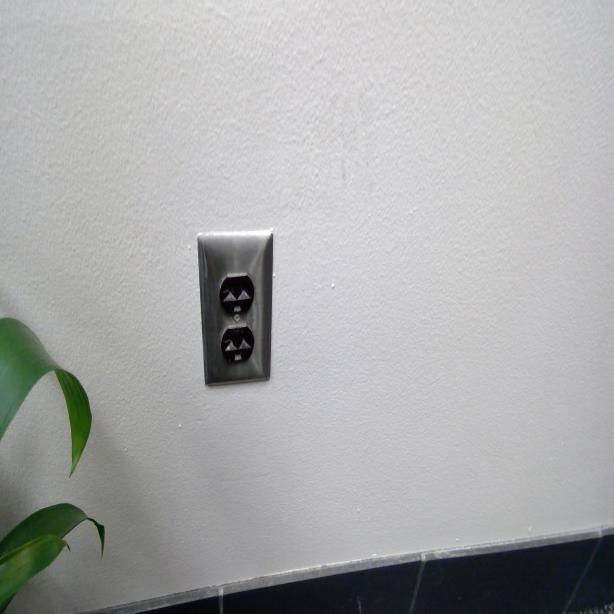typeb: (218, 266, 254, 316), (221, 324, 252, 366)
